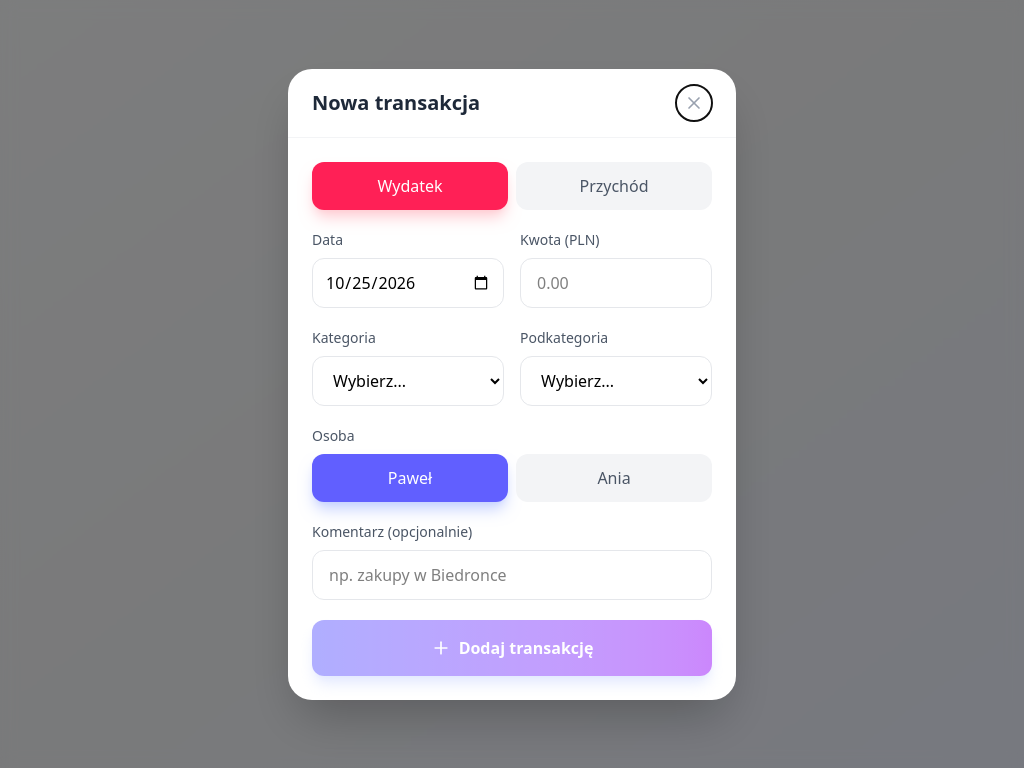
Test case: TransactionForm › przycisk zapisu nieaktywny bez kwoty i kategorii
This screenshot has width=1024, height=768.
Expected: the button "Dodaj transakcję" is disabled, [312, 620, 712, 676]
Type "10" into the number field labelled "Kwota (PLN)" at point(616, 282), box [520, 258, 712, 308]
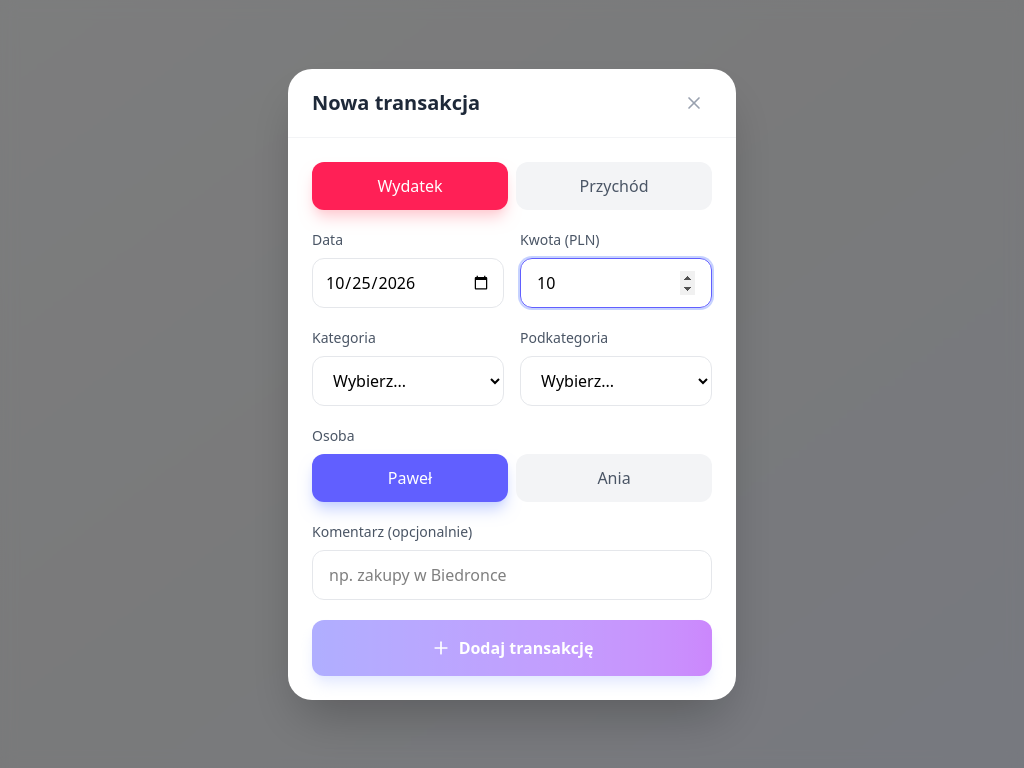
Expected: the button "Dodaj transakcję" is disabled, [312, 620, 712, 676]
Select "Transport" in the dropdown labelled "Kategoria" at point(408, 380), box [312, 356, 504, 406]
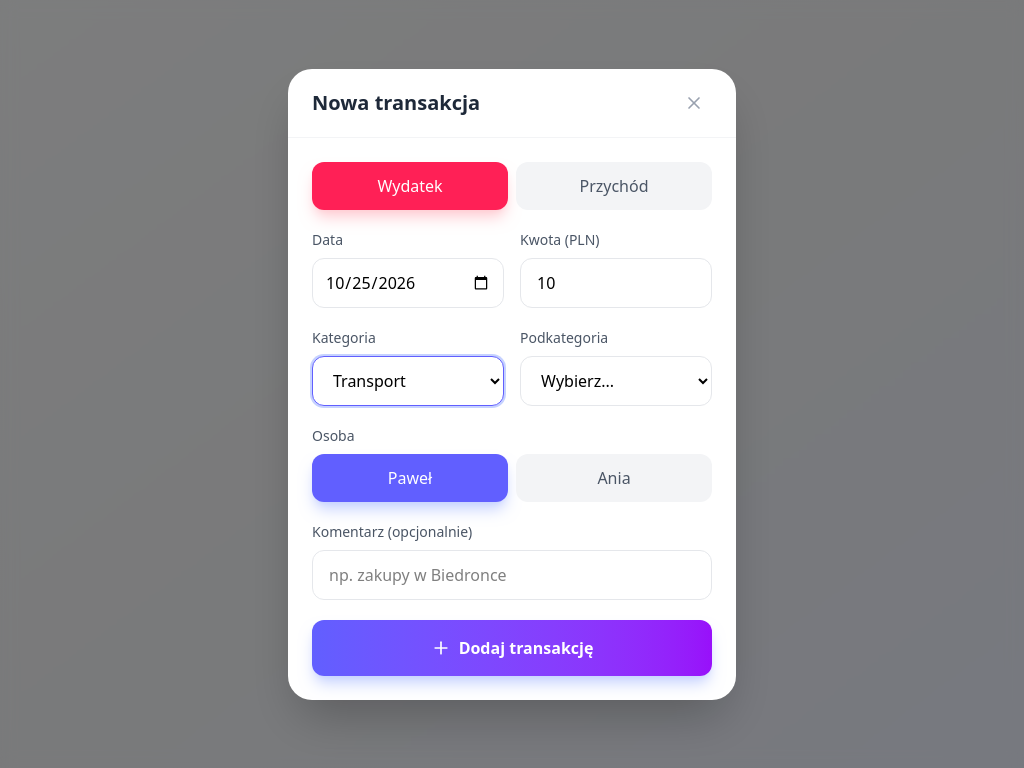
Expected: the button "Dodaj transakcję" is enabled, [312, 620, 712, 676]
